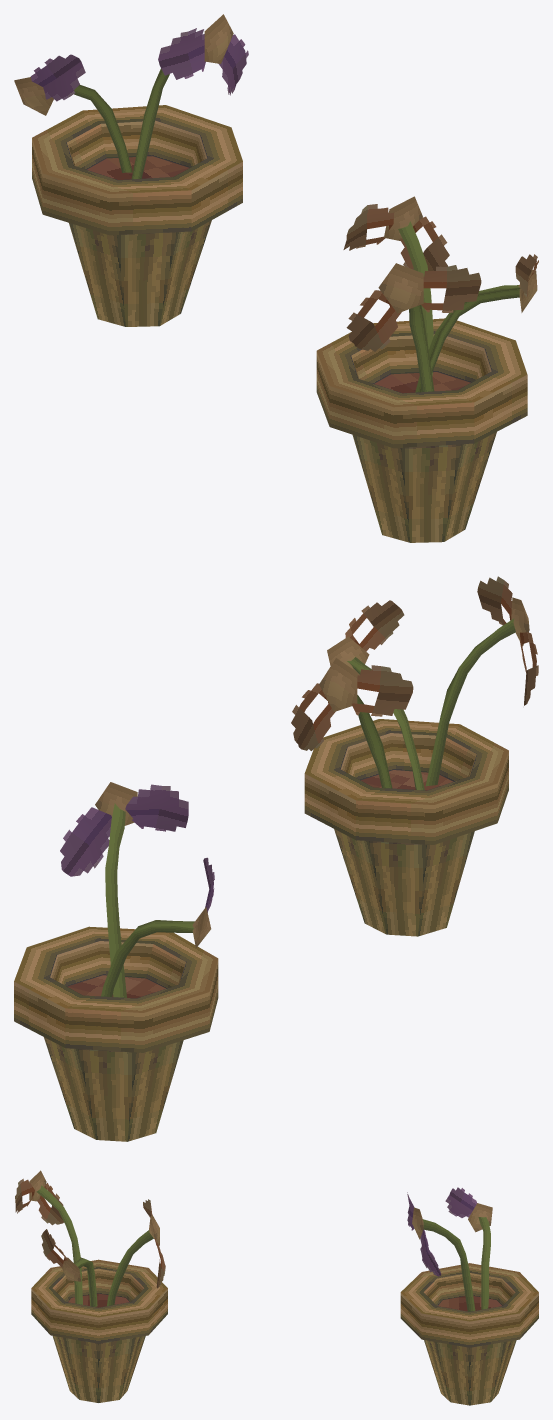
File: o_two1.glb
The picture shows the model from 3 angles, top to bottom: view 1: azimuth 30°, elevation 25°; view 2: azimuth 150°, elevation 25°; view 3: azimuth 270°, elevation 25°; orthographic projection. The views are drawn at different scales.
Visible parts, largest first — view 1: o_two1; view 2: o_two1; view 3: o_two1.
Boxes of the visible parts, x1,y1,x2,y2 form: o_two1: (14,14,538,542); o_two1: (14,576,538,1141); o_two1: (15,1170,538,1405).
Size of the model in its own units: 79 by 115 by 273.
6 materials, 6 textured.
